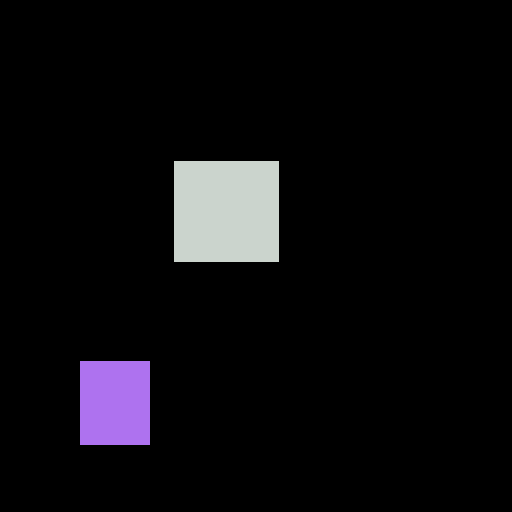rectangle: (80, 361, 149, 444)
square: (174, 161, 278, 261)
